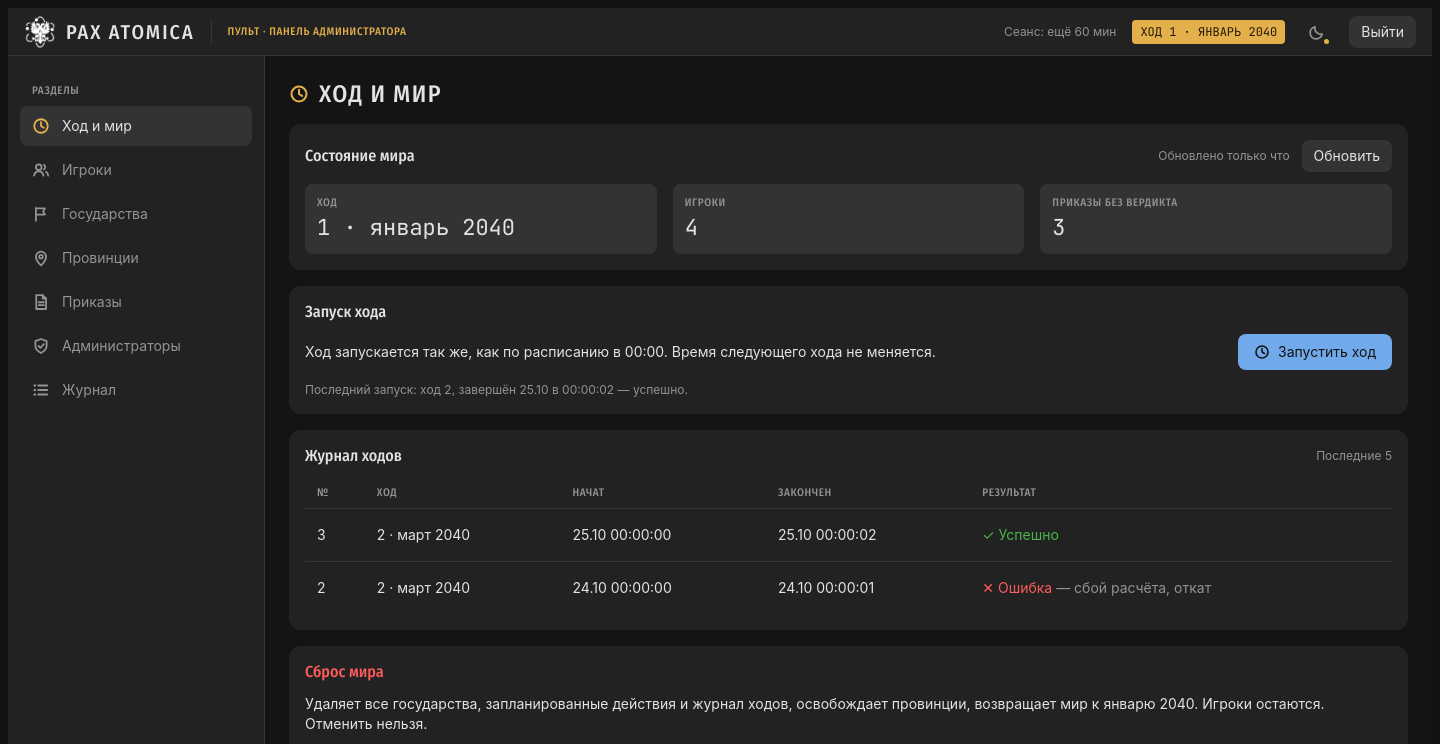
a failed tick shows the server error text in the card
Click the button with test id "run-tick". click: (1315, 352)
box: [1238, 334, 1392, 370]
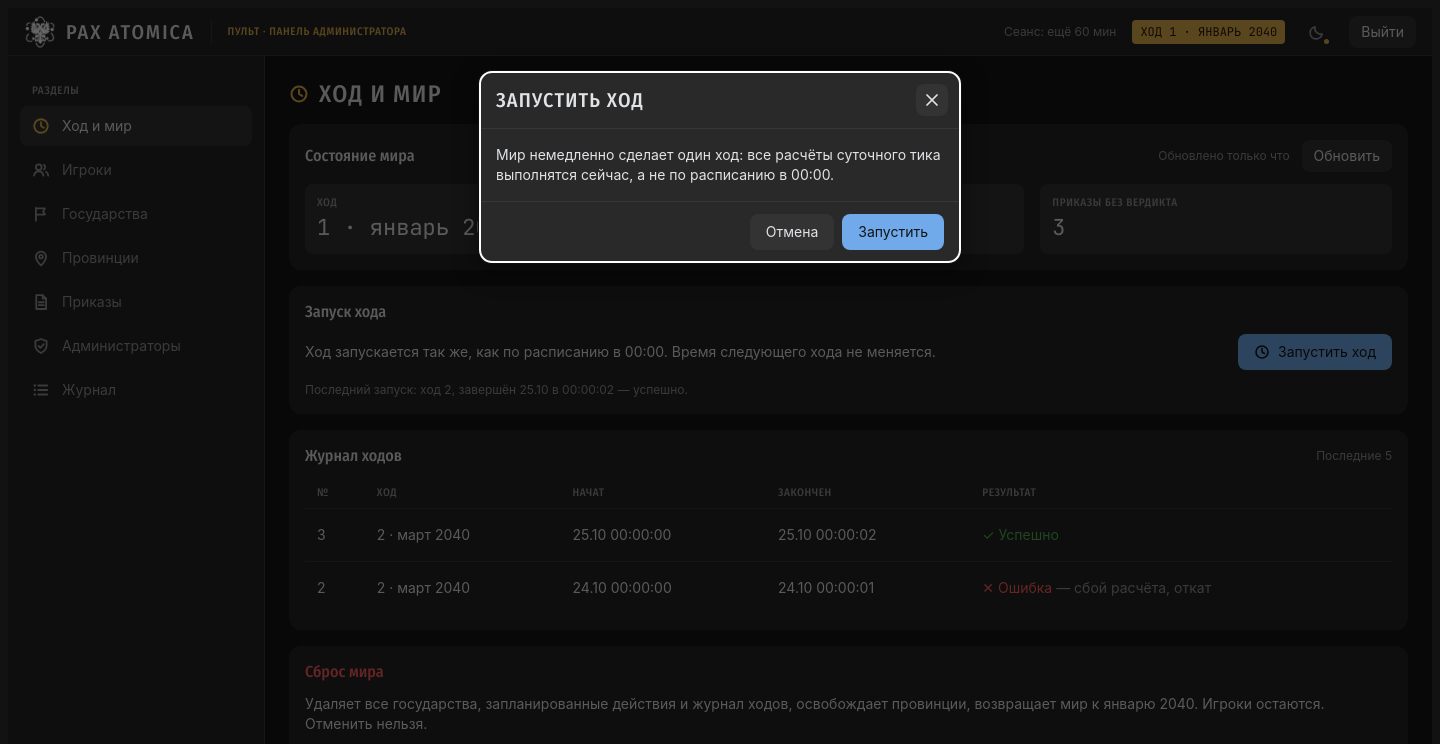
Check: the dialog with test id "tick-popup" is shown, box [480, 72, 960, 262]
Click the button with test id "confirm-tick". click: (893, 232)
box: [842, 214, 944, 250]
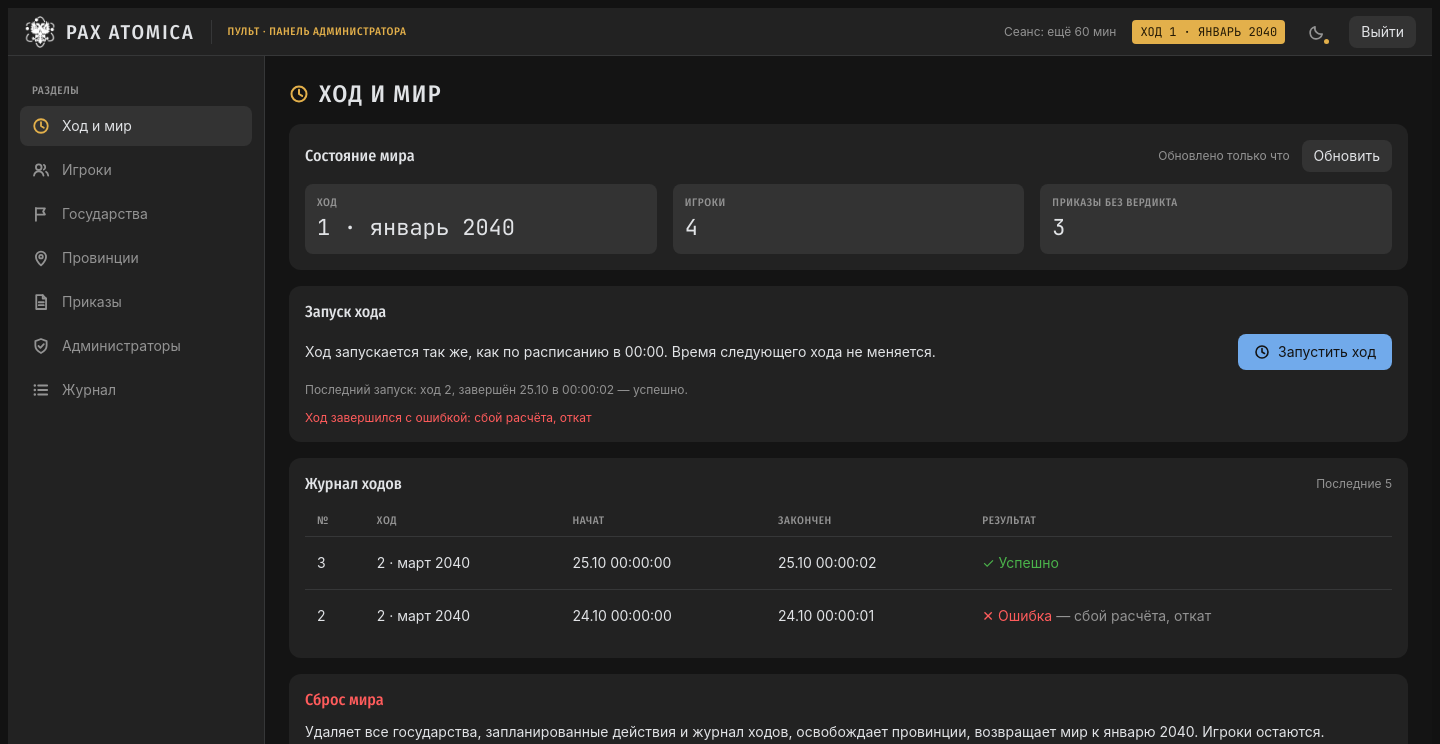
Check: the text with test id "tick-error" shows "сбой расчёта, откат", box [305, 410, 592, 425]
